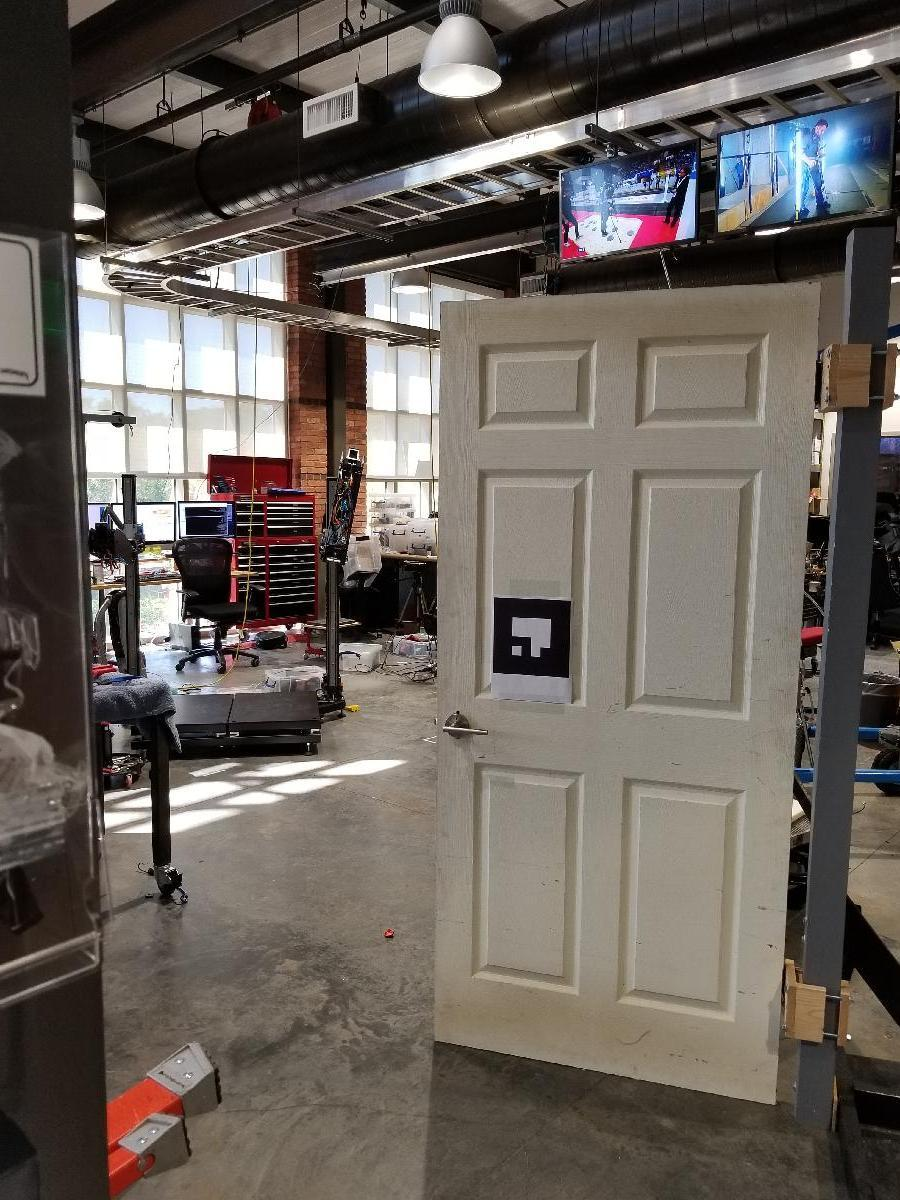door: (428, 283, 816, 1109)
handle: (435, 710, 497, 744)
